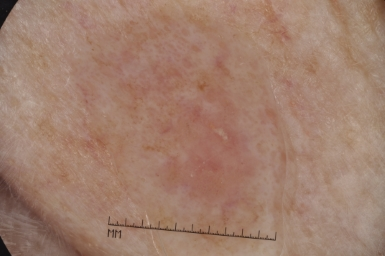seborrheic keratosis: (122, 62, 280, 216)
